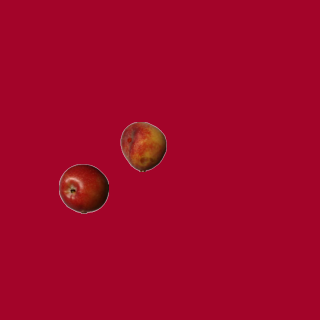Apple Braeburn: (58, 163, 108, 213)
Peach: (118, 121, 168, 171)
